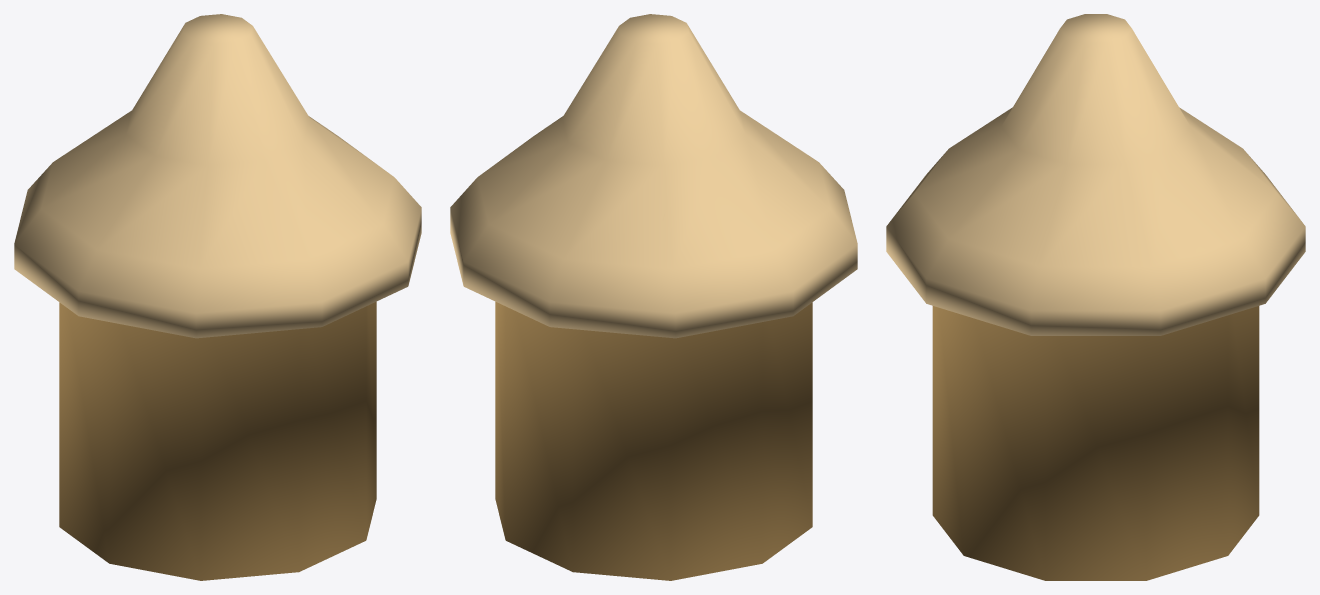
File: hut.glb
3 views of the same model, side by side, from view 1: azimuth 30°, elevation 25°; view 2: azimuth 150°, elevation 25°; view 3: azimuth 270°, elevation 25° (orthographic).
Parts seen in each view (by area): view 1: Cylinder.004; view 2: Cylinder.004; view 3: Cylinder.004.
Boxes of the visible parts, bbox=[...] form: Cylinder.004: bbox=[14, 14, 421, 580]; Cylinder.004: bbox=[450, 14, 857, 580]; Cylinder.004: bbox=[886, 14, 1305, 580].
Bounding box in the file's own units: 0.4566 × 0.615 × 0.4801.
1 material, 1 textured.
